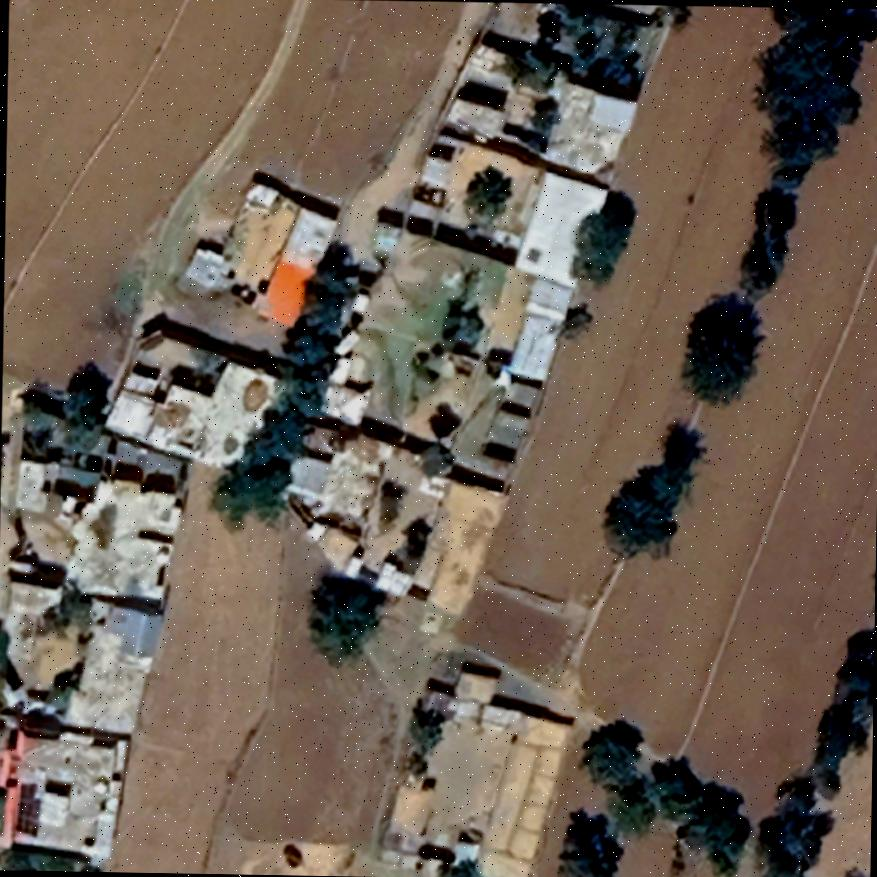Solarpanel: (12, 776, 44, 840)
